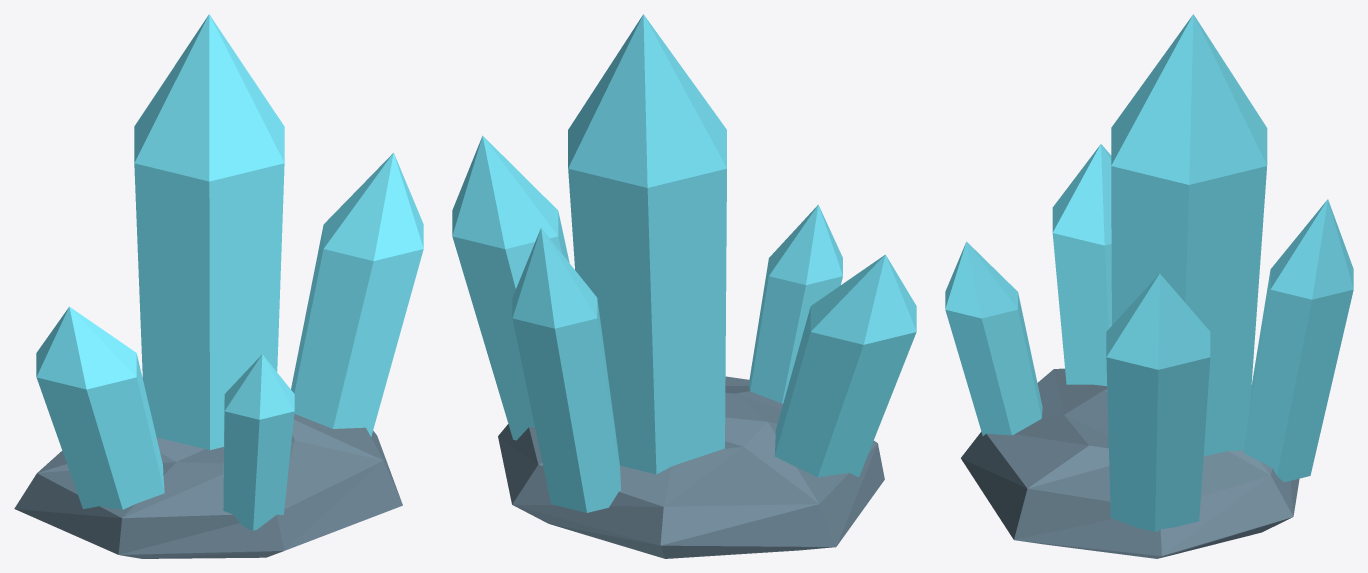
The model's file is crystal_cluster_a.glb.
3 renders of one model, left to right at view 1: azimuth 30°, elevation 25°; view 2: azimuth 150°, elevation 25°; view 3: azimuth 270°, elevation 25°, orthographic. The views are drawn at different scales.
Visible parts, largest first — view 1: crystals, geometry; view 2: crystals, geometry; view 3: crystals, geometry.
Boxes of the visible parts, x1,y1,x2,y2 form: crystals: [36, 14, 423, 530]; geometry: [14, 414, 402, 558]; crystals: [452, 14, 916, 512]; geometry: [498, 376, 884, 558]; crystals: [945, 14, 1353, 531]; geometry: [961, 368, 1299, 558].
Bounding box in the file's own units: 0.8248 × 0.9 × 0.6803.
